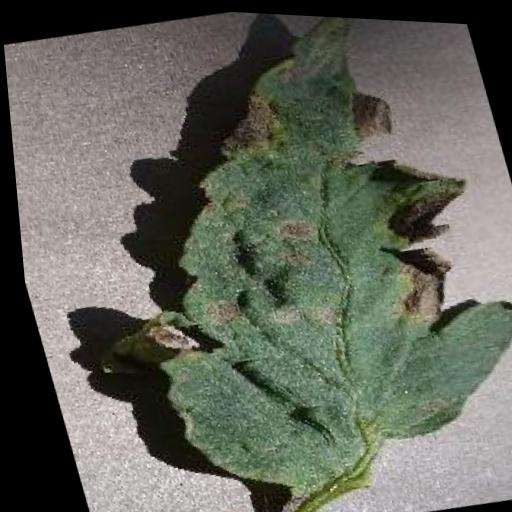Early Blight: (62, 3, 512, 512)
